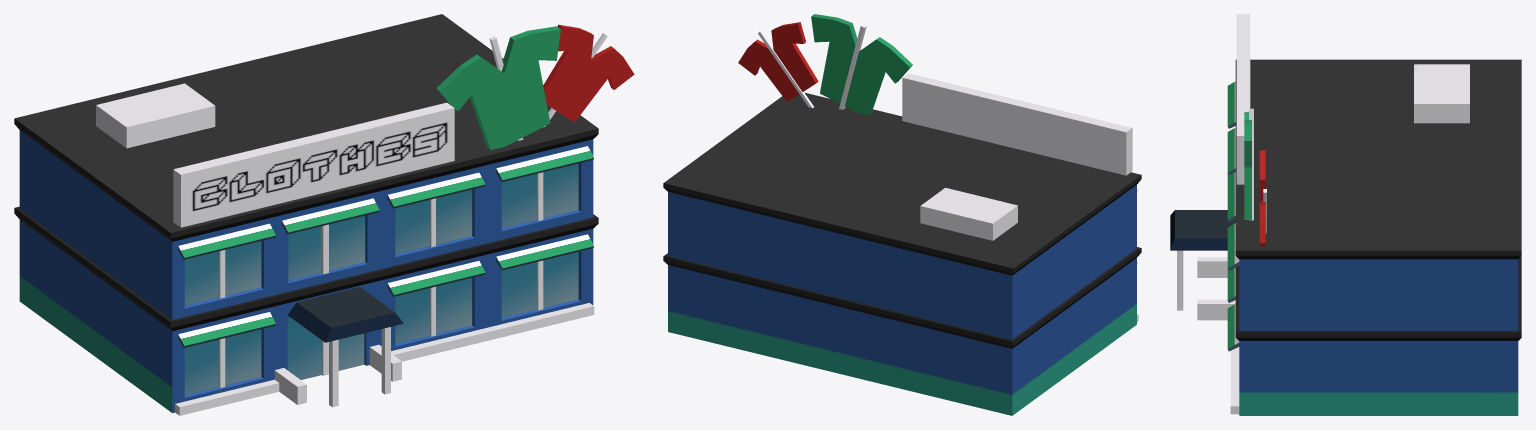
File: Clothes House French.fbx
The picture shows the model from 3 angles, left to right: view 1: azimuth 30°, elevation 25°; view 2: azimuth 150°, elevation 25°; view 3: azimuth 270°, elevation 25°; orthographic projection. The views are drawn at different scales.
Parts seen in each view (by area): view 1: Clothes House French; view 2: Clothes House French; view 3: Clothes House French.
Boxes of the visible parts, x1=… form: Clothes House French: x1=14, y1=14, x2=634, y2=415; Clothes House French: x1=663, y1=14, x2=1141, y2=415; Clothes House French: x1=1170, y1=14, x2=1521, y2=415.
Size of the model in its own units: 6.06 by 3.53 by 4.23.
